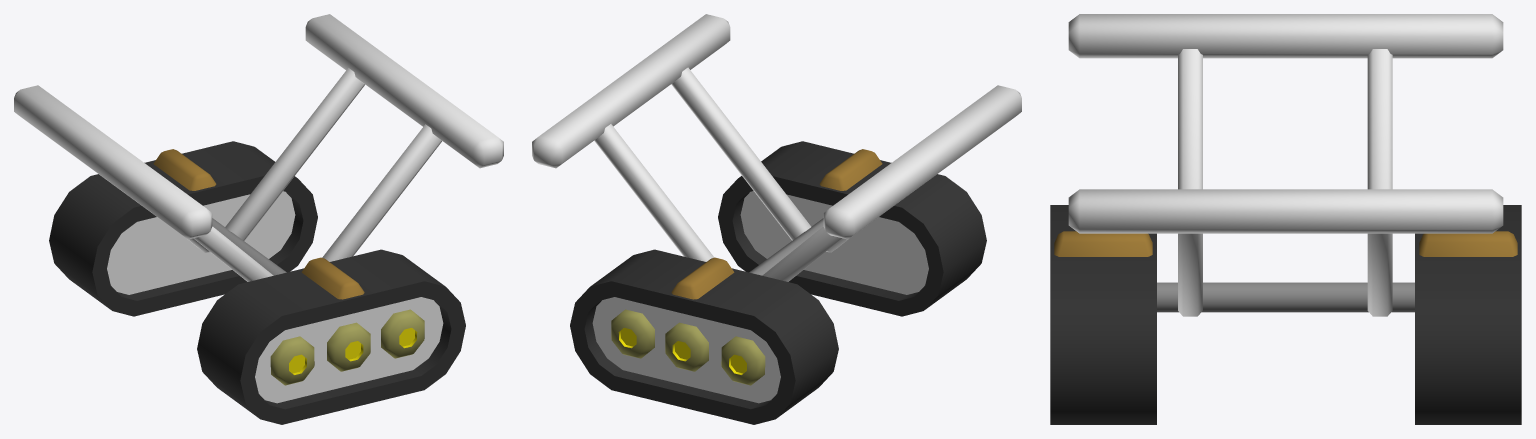
File: caterpillar_2.fbx
3 renders of one model, left to right at view 1: azimuth 30°, elevation 25°; view 2: azimuth 150°, elevation 25°; view 3: azimuth 270°, elevation 25°, orthographic. The views are drawn at different scales.
Parts seen in each view (by area): view 1: caterpillar_2; view 2: caterpillar_2; view 3: caterpillar_2.
Boxes of the visible parts, <box> form: caterpillar_2: <box>14,14,503,424</box>; caterpillar_2: <box>532,14,1021,424</box>; caterpillar_2: <box>1050,14,1521,424</box>.
Bounding box in the file's own units: 199 × 132 × 205.
